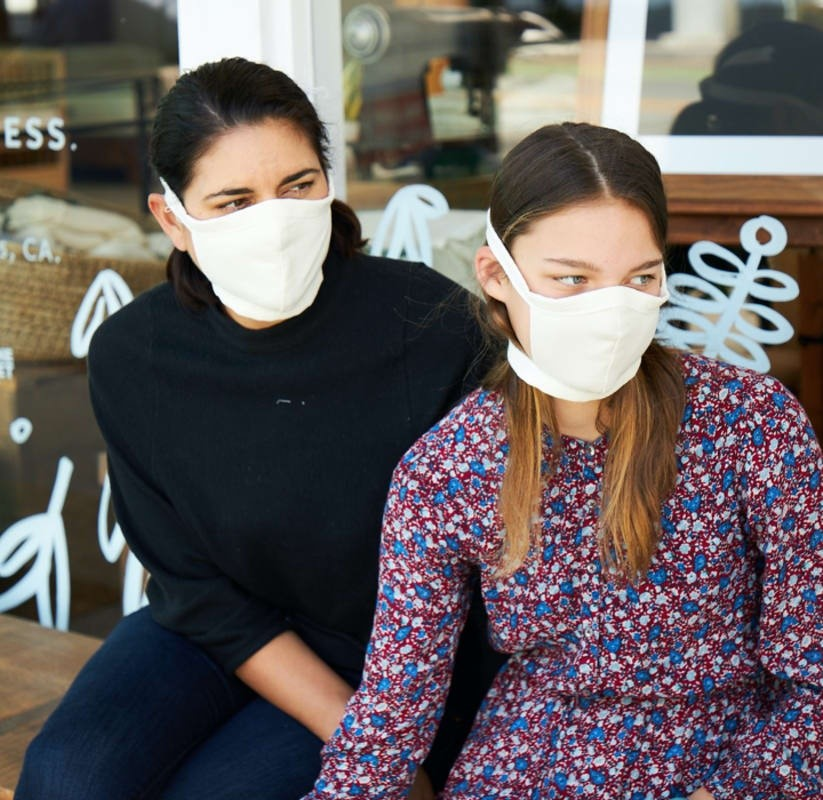face_with_mask: (474, 122, 672, 403), (148, 57, 337, 326)
